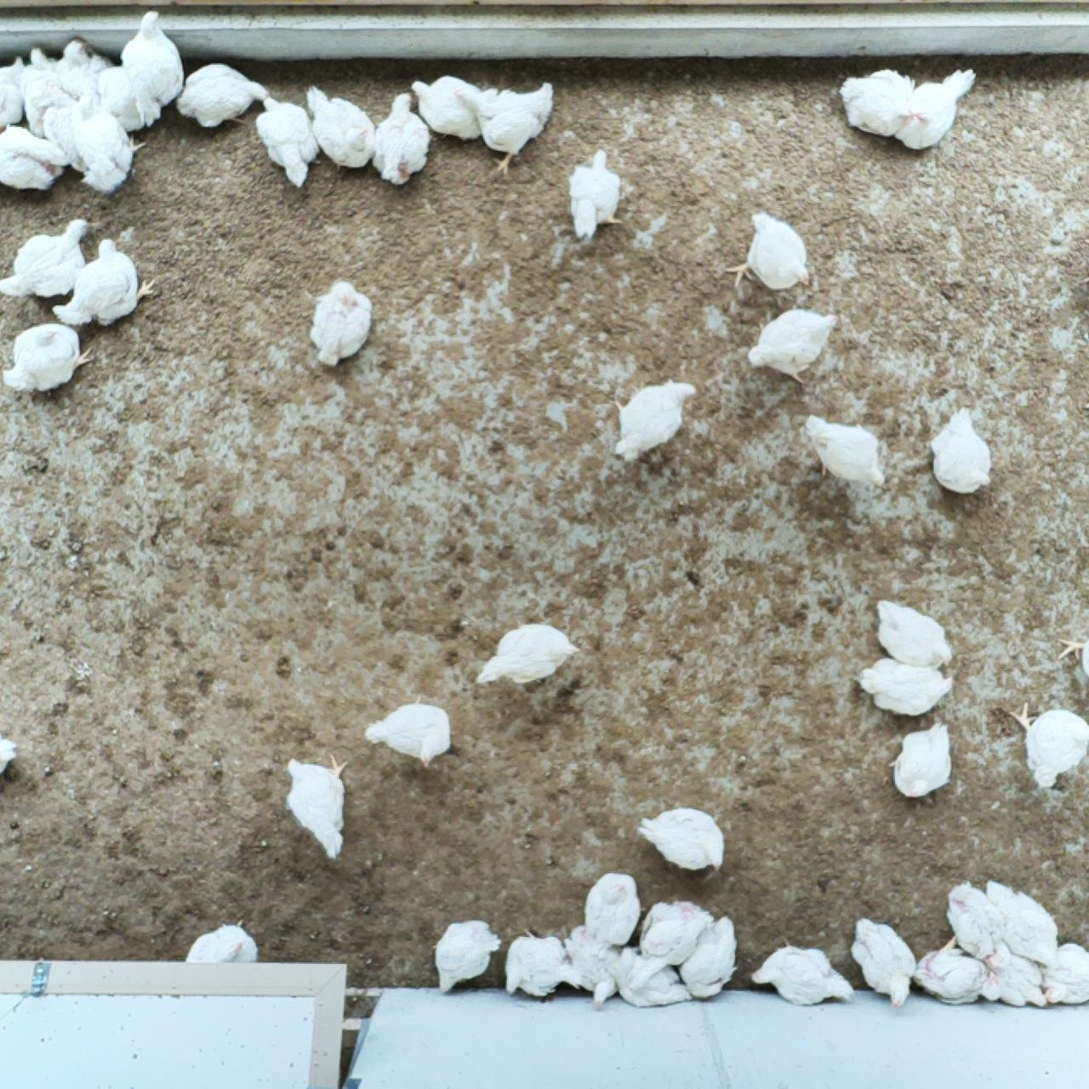chicken: (450, 82, 559, 177), (51, 237, 157, 330), (69, 91, 146, 200), (627, 897, 714, 992), (470, 618, 581, 692), (283, 751, 355, 864), (723, 210, 817, 296), (751, 936, 855, 1013), (0, 217, 94, 302), (744, 306, 842, 387), (119, 9, 185, 129), (362, 688, 455, 771), (1006, 699, 1089, 792), (0, 320, 95, 400), (613, 376, 698, 463), (894, 66, 978, 152), (982, 875, 1060, 965), (302, 83, 379, 174), (802, 411, 888, 490), (173, 61, 270, 131), (850, 916, 921, 1010), (870, 594, 956, 671), (635, 804, 729, 873), (255, 96, 322, 192), (855, 655, 955, 718), (836, 65, 916, 143), (308, 277, 375, 370), (927, 405, 994, 498), (372, 89, 432, 189), (564, 148, 625, 242), (887, 718, 955, 802), (503, 927, 582, 999), (607, 946, 693, 1012), (429, 917, 502, 994), (408, 73, 487, 141), (681, 914, 744, 999), (563, 924, 623, 1013), (944, 879, 1007, 963), (582, 870, 644, 955), (39, 79, 92, 171), (54, 36, 117, 111), (182, 917, 262, 968), (21, 45, 65, 136), (96, 65, 149, 129), (0, 56, 31, 132), (0, 731, 18, 777)
